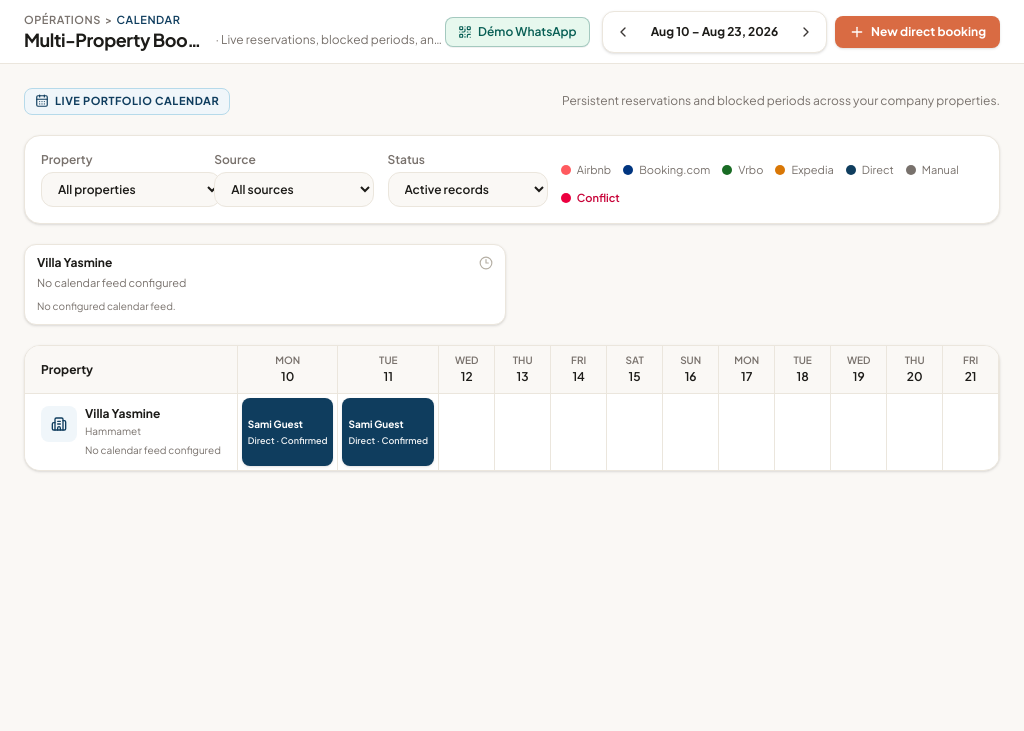
Test: CalendarPage › closes stale booking details and reloads current data after an edit
Click the 1st button "Sami Guest Direct · Confirmed" at (288, 432), box [242, 398, 334, 466]
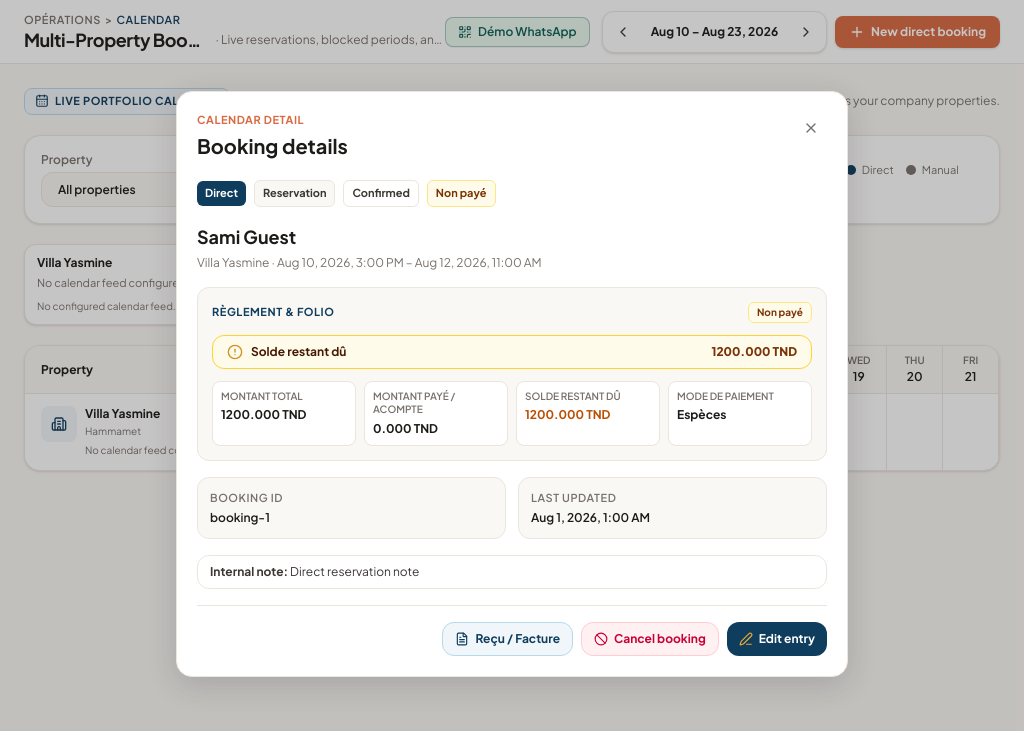
Click the button "Edit entry" at (777, 639), box [727, 622, 827, 656]
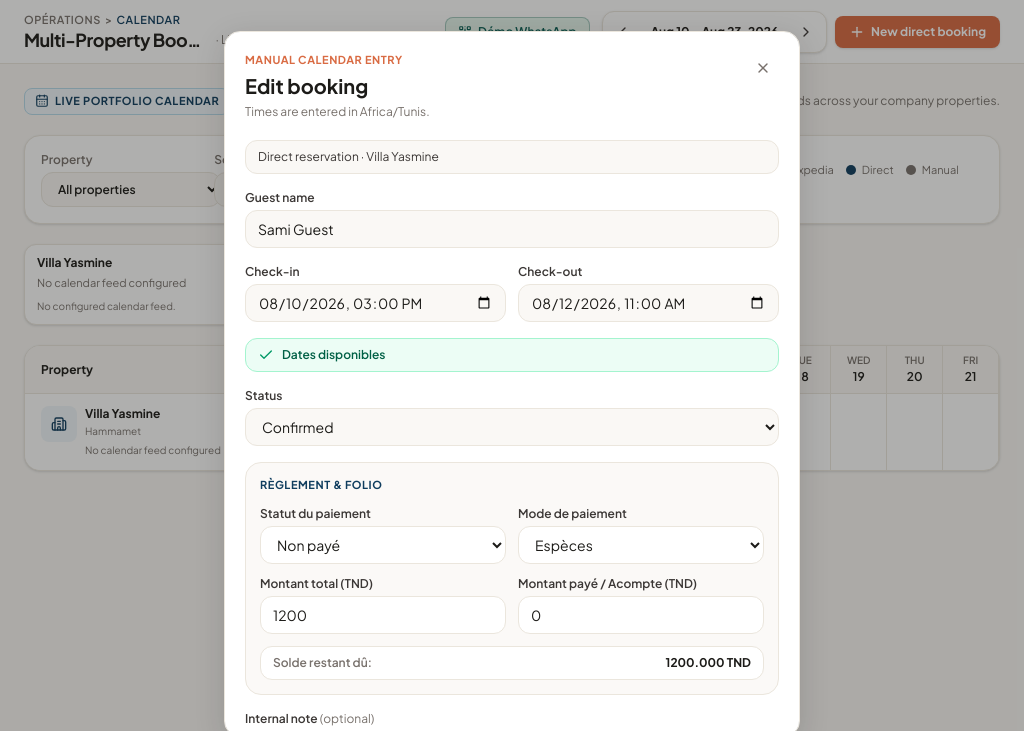
Select "Tentative" in the dropdown labelled "Status" at (512, 427), box [245, 408, 779, 446]
(page scrolled)
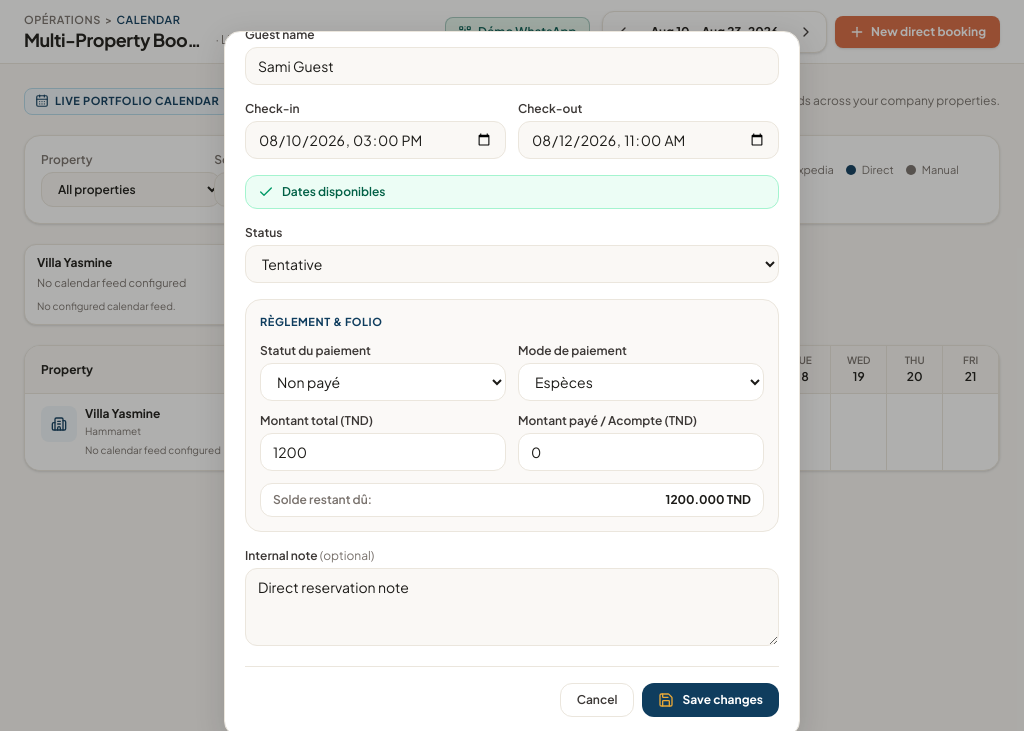
Replace the text in the text box labelled "Internal note (optional)" with "Edited during live verification" at (512, 607), box [245, 568, 779, 646]
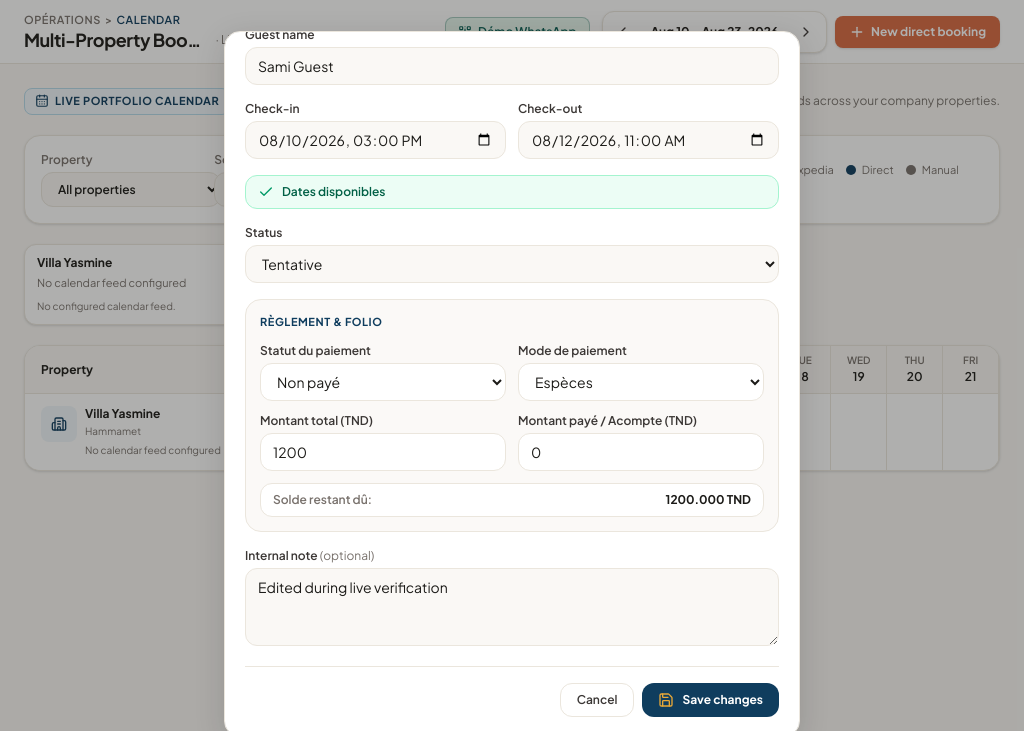
Click the button "Save changes" at (711, 700), box [642, 683, 779, 717]
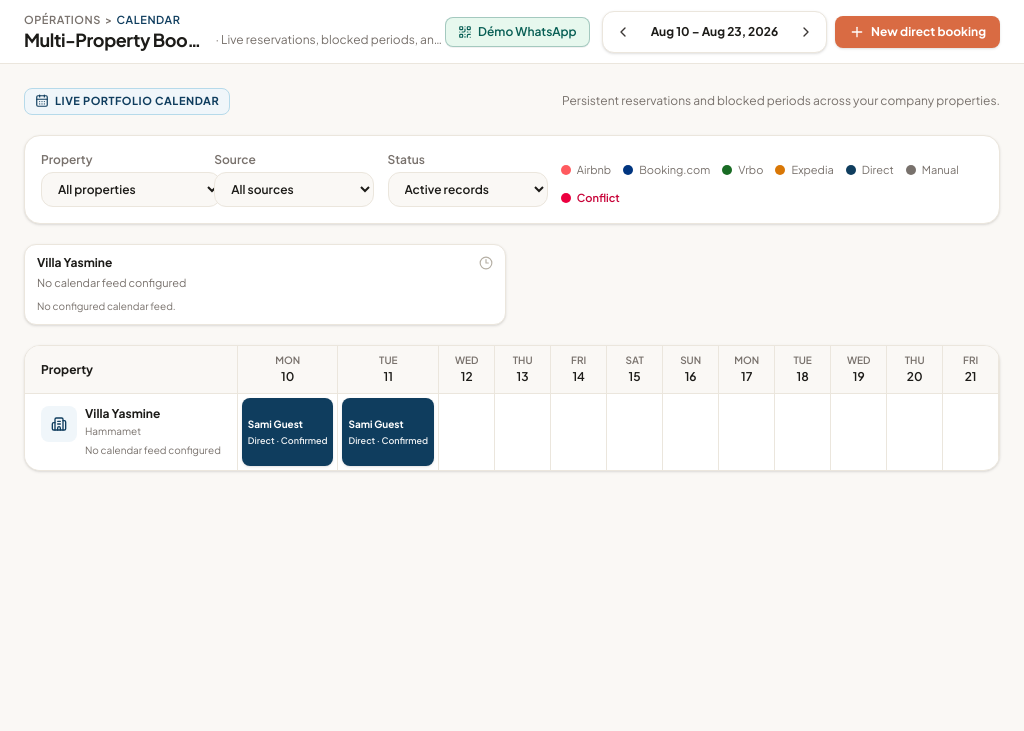
Expected: the heading "Booking details" is not shown
Click the 1st button "Sami Guest Direct · Confirmed" at (288, 432), box [242, 398, 334, 466]
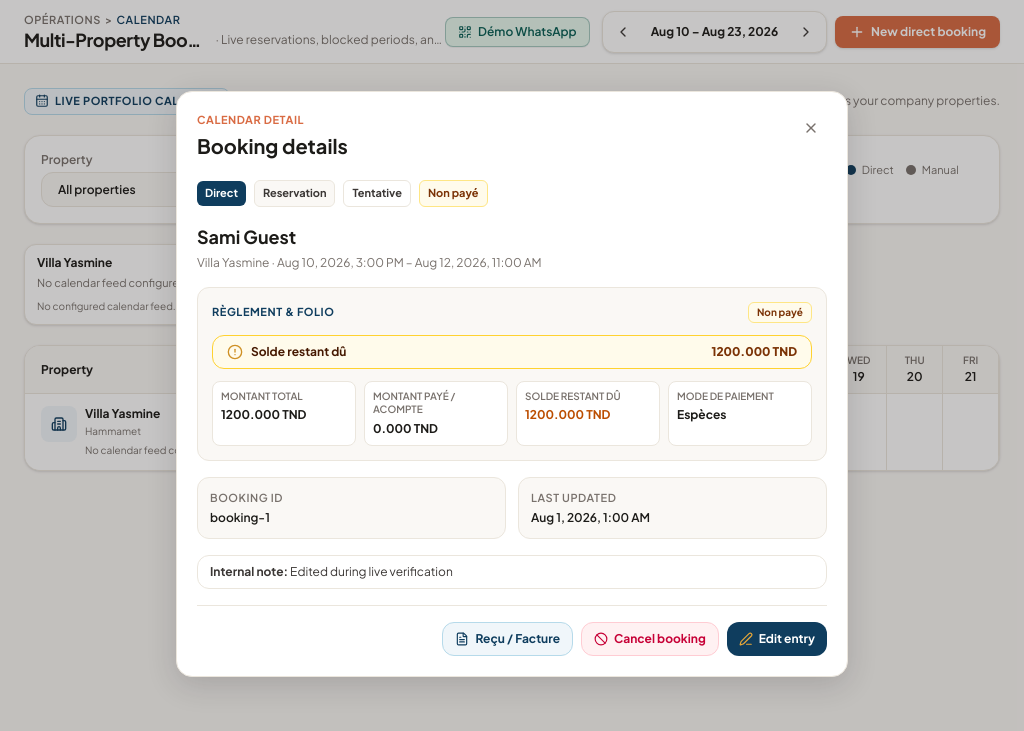
Expected: the dialog "Booking details" shows "Tentative", [352, 186, 402, 199]
Expected: the dialog "Booking details" shows "Edited during live verification", [290, 564, 453, 579]
